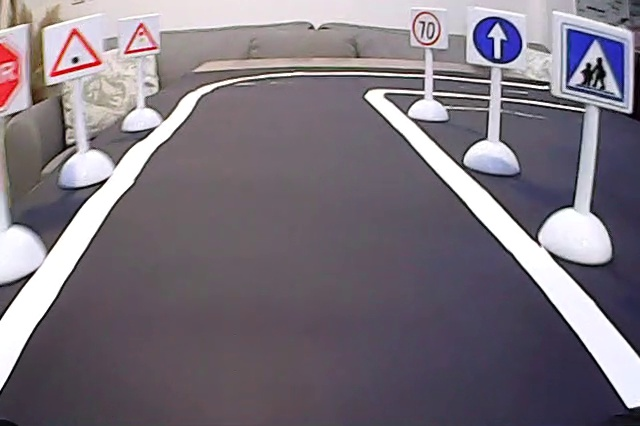green light: (43, 26, 107, 78)
red light: (118, 20, 161, 57)
school crossing: (554, 16, 632, 107)
speed limit 70: (412, 11, 445, 47)
